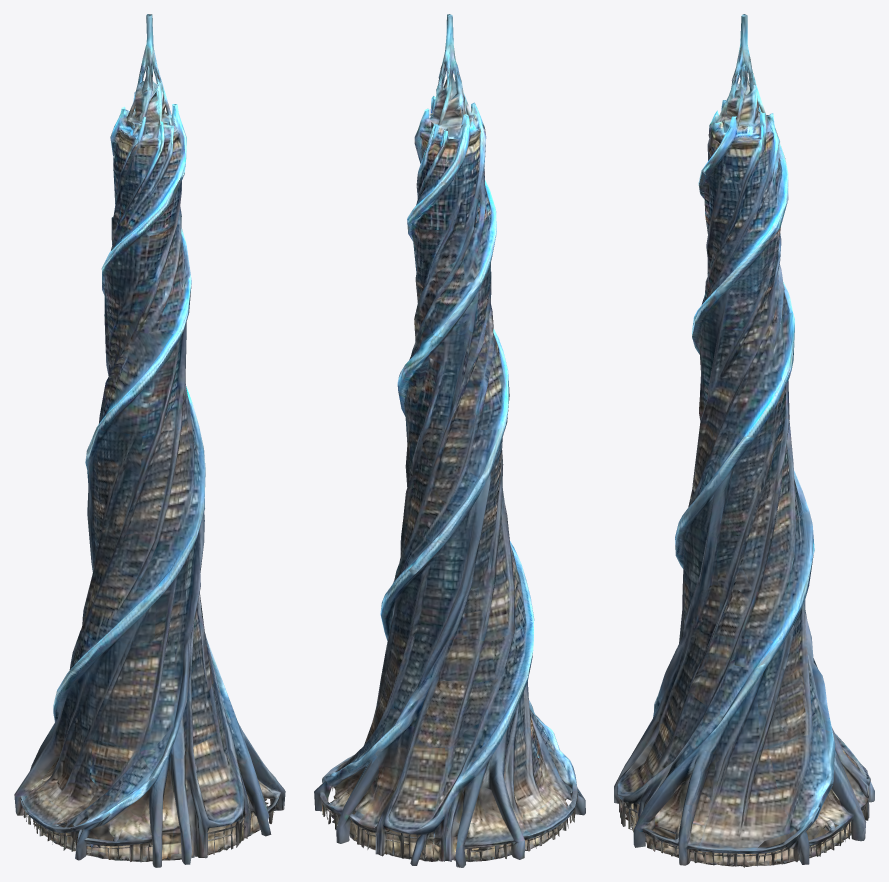
File: tower-a.glb
3 views of the same model, side by side, from view 1: azimuth 30°, elevation 25°; view 2: azimuth 150°, elevation 25°; view 3: azimuth 270°, elevation 25° (orthographic).
Visible parts, largest first — view 1: SM_tower_a; view 2: SM_tower_a; view 3: SM_tower_a.
Boxes of the visible parts, bbox=[...] form: SM_tower_a: bbox=[14, 14, 285, 867]; SM_tower_a: bbox=[314, 14, 585, 867]; SM_tower_a: bbox=[614, 14, 874, 867].
Size of the model in its own units: 0.2896 by 0.9828 by 0.2896.
1 material, 1 textured.
